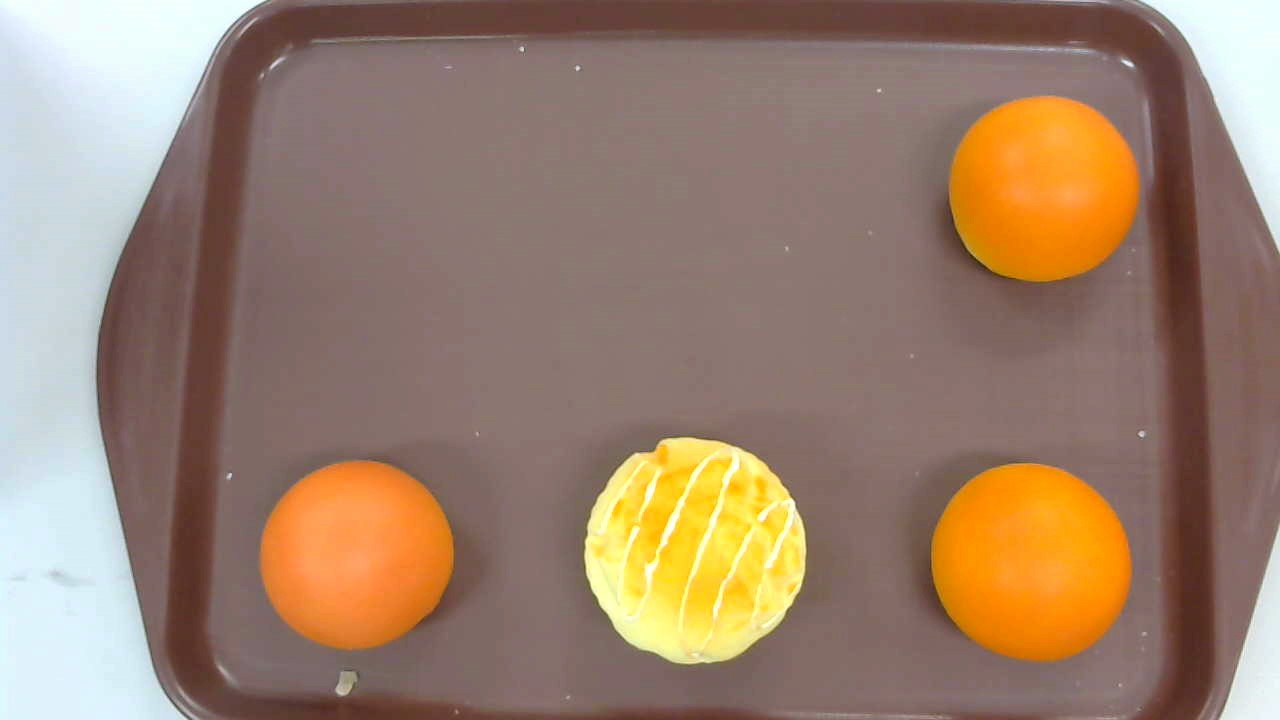bun: (929, 462, 1131, 662), (259, 458, 453, 651), (948, 96, 1140, 283)
cupcake: (584, 436, 807, 666)
